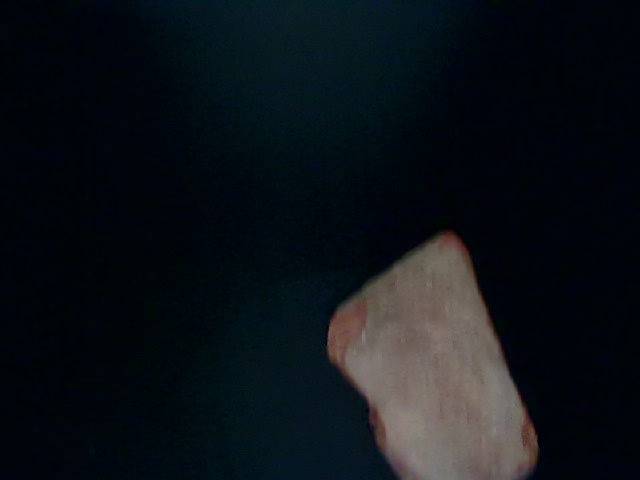KHSLJ: (1, 327, 276, 476)
